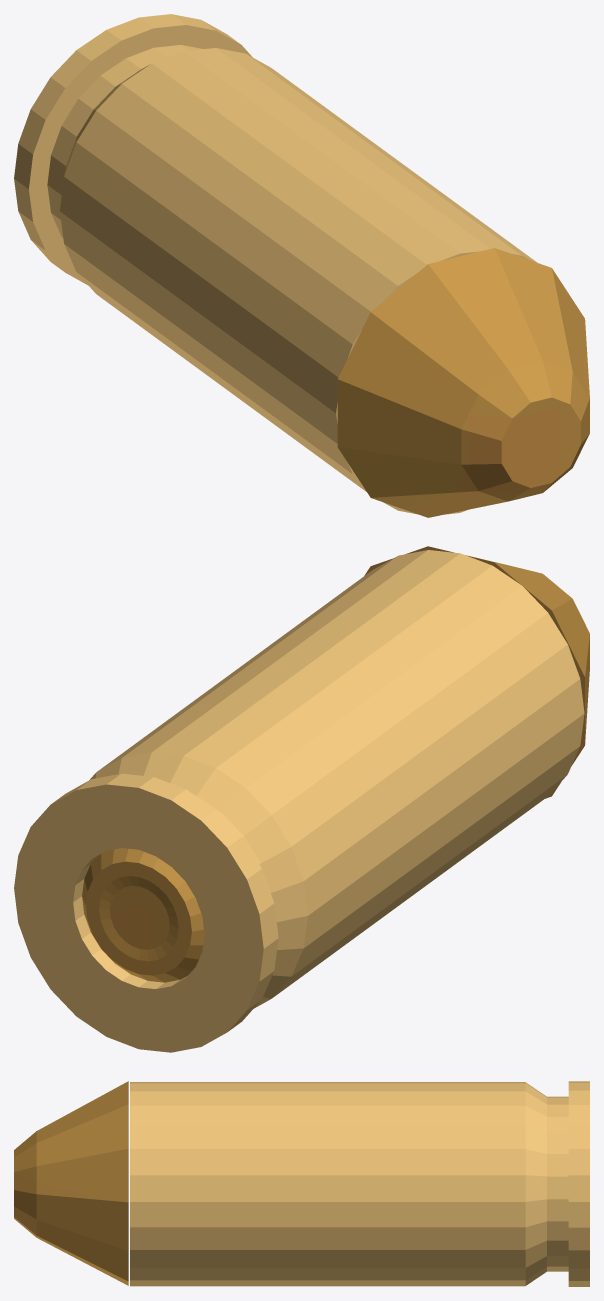
Rendered from bullet_case_life.glb.
3 renders of one model, top to bottom at view 1: azimuth 30°, elevation 25°; view 2: azimuth 150°, elevation 25°; view 3: azimuth 270°, elevation 25°, orthographic. The views are drawn at different scales.
Visible parts, largest first — view 1: Bullet Casing_Material.001_0, cone; view 2: Bullet Casing_Material.001_0, cone; view 3: Bullet Casing_Material.001_0, cone.
Boxes of the visible parts, x1,y1,x2,y2 form: Bullet Casing_Material.001_0: [14, 14, 537, 514]; cone: [337, 248, 589, 517]; Bullet Casing_Material.001_0: [14, 550, 584, 1052]; cone: [364, 546, 589, 798]; Bullet Casing_Material.001_0: [130, 1081, 589, 1286]; cone: [14, 1081, 128, 1285].
Size of the model in its own units: 0.1575 by 0.1575 by 0.44.
Materials: 1 (1 with a texture image).
